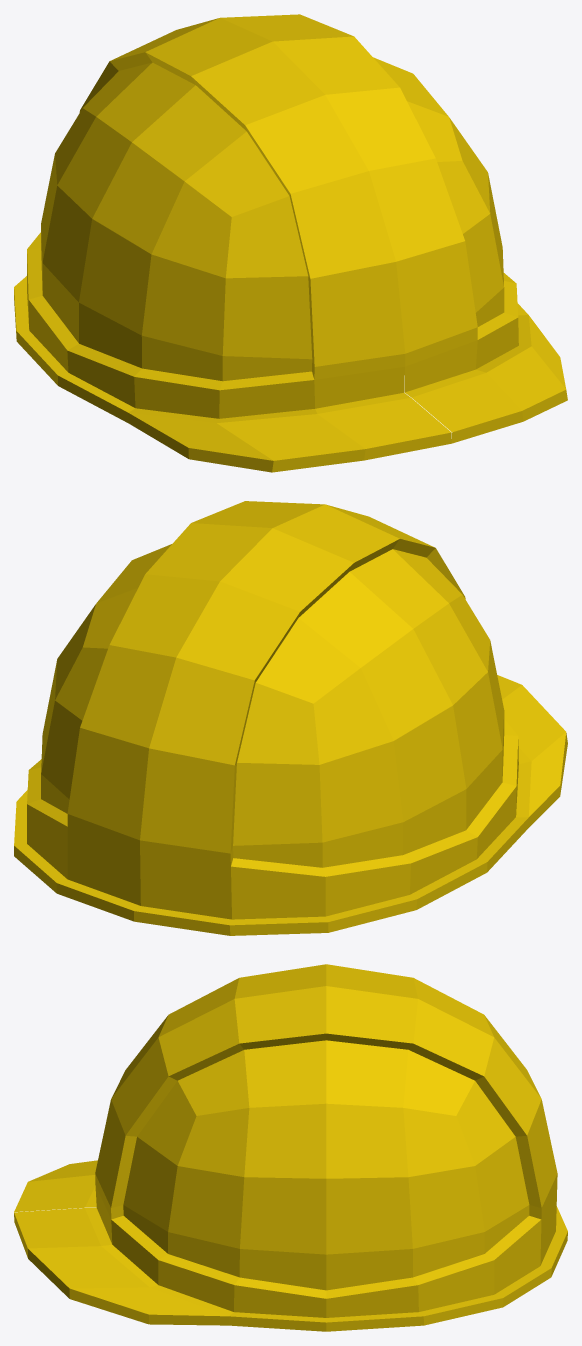
3 renders of one model, top to bottom at view 1: azimuth 30°, elevation 25°; view 2: azimuth 150°, elevation 25°; view 3: azimuth 270°, elevation 25°, orthographic. The views are drawn at different scales.
Visible parts, largest first — view 1: Helm; view 2: Helm; view 3: Helm.
Boxes of the visible parts, x1,y1,x2,y2 form: Helm: (14,14,567,472); Helm: (14,501,567,935); Helm: (14,964,567,1331).
Bounding box in the file's own units: 0.536 × 0.3552 × 0.6871.
